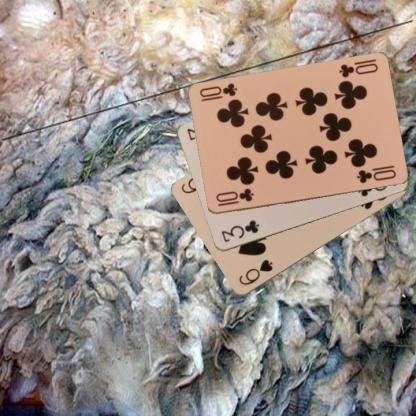10c: (213, 186, 255, 208), (336, 61, 379, 79)
3c: (218, 218, 260, 244)
6s: (236, 257, 274, 287)
